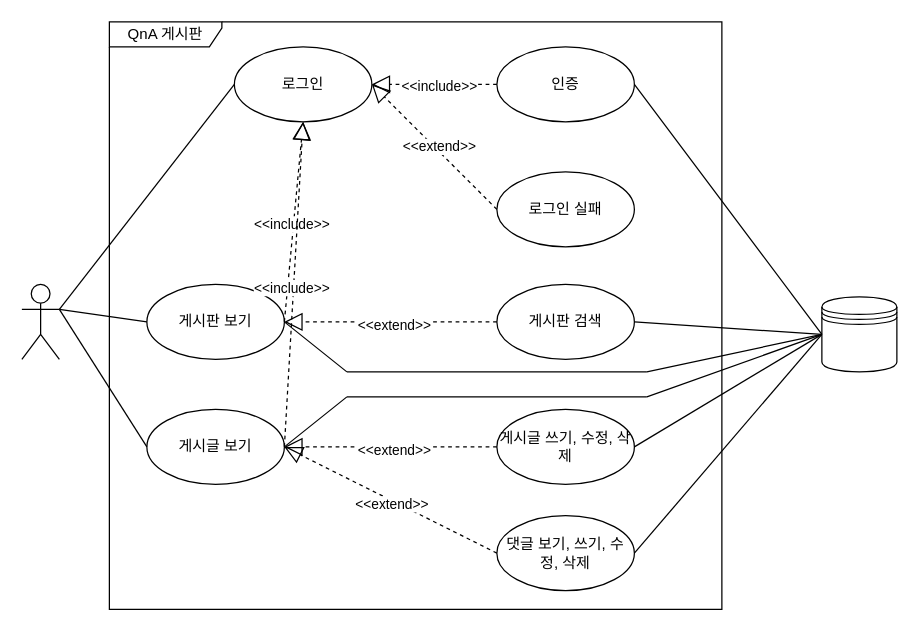
Some shapes in this 919 by 631 pixel diagram are drawn without their labels. The shapes that lost their labels are listed below. From the top down, each one's centre as x and y in pixels, then its label:
[40,321]: Actor
[859,334]: DB
